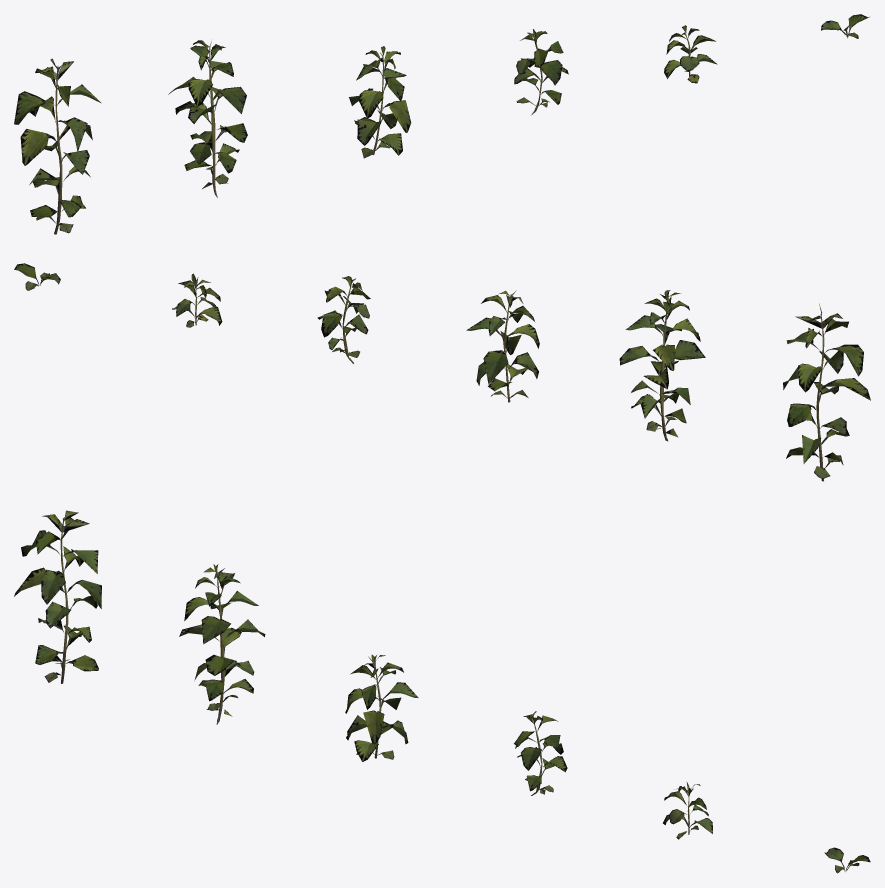
Rendered from nettle_lo.glb.
The picture shows the model from 3 angles, top to bottom: view 1: azimuth 30°, elevation 25°; view 2: azimuth 150°, elevation 25°; view 3: azimuth 330°, elevation 25°; orthographic projection.
Parts seen in each view (by area): view 1: nettle_plant_tall_a_LOD0, nettle_plant_tall_b_LOD0, nettle_plant_medium_a_LOD0, nettle_plant_medium_b_LOD0, nettle_plant_small_a_LOD0; view 2: nettle_plant_tall_a_LOD0, nettle_plant_tall_b_LOD0, nettle_plant_medium_a_LOD0, nettle_plant_medium_b_LOD0, nettle_plant_small_a_LOD0, nettle_plant_small_b_LOD0; view 3: nettle_plant_tall_a_LOD0, nettle_plant_tall_b_LOD0, nettle_plant_medium_a_LOD0, nettle_plant_medium_b_LOD0, nettle_plant_small_a_LOD0.
Part boxes in pixels (bbox=[...]): nettle_plant_tall_a_LOD0: bbox=[14, 58, 101, 234]; nettle_plant_tall_b_LOD0: bbox=[168, 40, 247, 197]; nettle_plant_medium_a_LOD0: bbox=[349, 46, 411, 158]; nettle_plant_medium_b_LOD0: bbox=[514, 29, 568, 115]; nettle_plant_small_a_LOD0: bbox=[664, 25, 717, 83]; nettle_plant_tall_a_LOD0: bbox=[783, 303, 870, 481]; nettle_plant_tall_b_LOD0: bbox=[619, 290, 705, 441]; nettle_plant_medium_a_LOD0: bbox=[466, 290, 539, 402]; nettle_plant_medium_b_LOD0: bbox=[317, 276, 370, 363]; nettle_plant_small_a_LOD0: bbox=[172, 273, 222, 327]; nettle_plant_small_b_LOD0: bbox=[14, 263, 60, 290]; nettle_plant_tall_a_LOD0: bbox=[14, 510, 101, 683]; nettle_plant_tall_b_LOD0: bbox=[179, 564, 265, 724]; nettle_plant_medium_a_LOD0: bbox=[345, 655, 418, 761]; nettle_plant_medium_b_LOD0: bbox=[514, 711, 567, 795]; nettle_plant_small_a_LOD0: bbox=[663, 782, 712, 839].
Bounding box in the file's own units: 1.08 × 0.2135 × 0.0947.
Materials: 1 (1 with a texture image).
